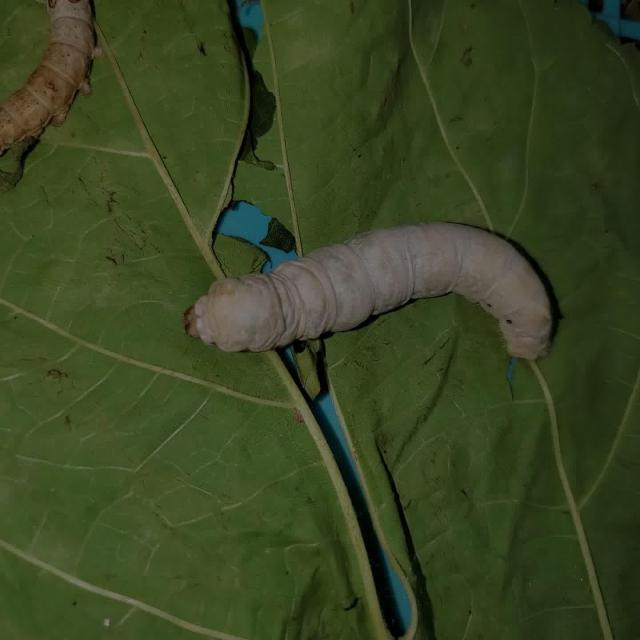Grasserie: (171, 185, 558, 388)
